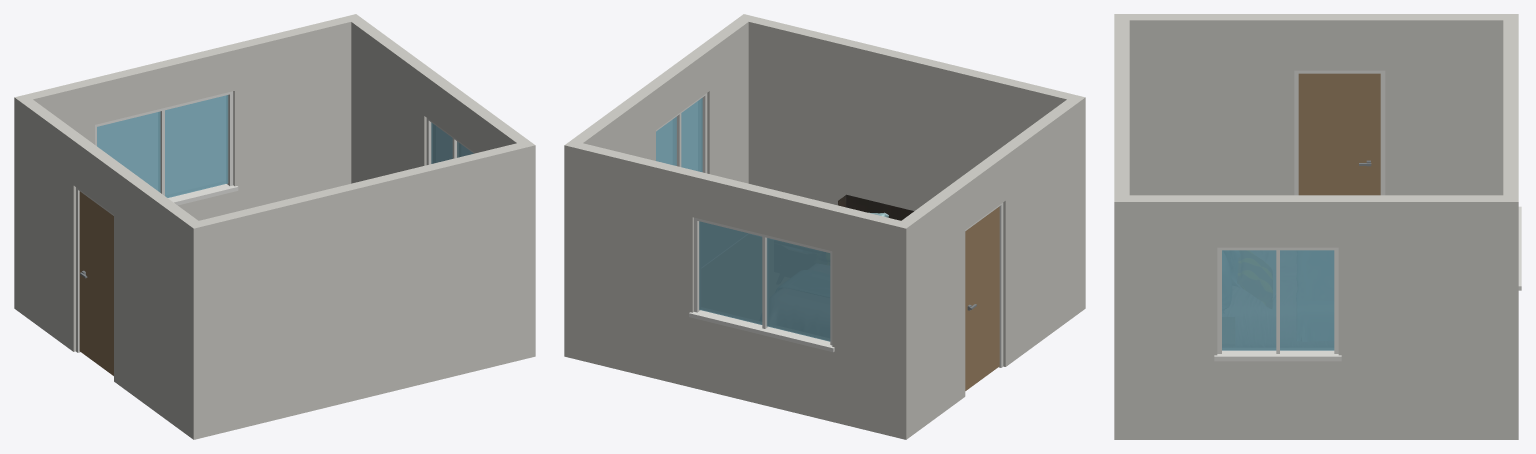
Rendered from instructscene.glb.
3 views of the same model, side by side, from view 1: azimuth 30°, elevation 25°; view 2: azimuth 150°, elevation 25°; view 3: azimuth 270°, elevation 25° (orthographic). The views are drawn at different scales.
Parts seen in each view (by area): view 1: wall|scenesmith_024__R00|0, wall|scenesmith_024__R00|2, wall|scenesmith_024__R00|1, wall|scenesmith_024__R00|3, wall|scenesmith_024__R00|1 Window 0 | glazing, wall|scenesmith_024__R00|2 Door 0 | wood leaf, wall|scenesmith_024__R00|1 Window 0 | jamb, wall|scenesmith_024__R00|3 Window 0 | glazing, wall|scenesmith_024__R00|2 Door 0 | jamb; view 2: wall|scenesmith_024__R00|1, wall|scenesmith_024__R00|0, wall|scenesmith_024__R00|2, wall|scenesmith_024__R00|3, wall|scenesmith_024__R00|1 Window 0 | glazing, wall|scenesmith_024__R00|2 Door 0 | wood leaf, wall|scenesmith_024__R00|1 Window 0 | jamb, wall|scenesmith_024__R00|3 Window 0 | glazing, raw_model.001, wall|scenesmith_024__R00|2 Door 0 | jamb, wall|scenesmith_024__R00|3 Window 0 | jamb; view 3: wall|scenesmith_024__R00|3, wall|scenesmith_024__R00|2, wall|scenesmith_024__R00|3 Window 0 | glazing, wall|scenesmith_024__R00|2 Door 0 | wood leaf, wall|scenesmith_024__R00|3 Window 0 | jamb, wall|scenesmith_024__R00|0, wall|scenesmith_024__R00|1, wall|scenesmith_024__R00|2 Door 0 | jamb.
Boxes of the visible parts, <box> form: wall|scenesmith_024__R00|0: <box>187,140,535,439</box>; wall|scenesmith_024__R00|2: <box>15,94,205,438</box>; wall|scenesmith_024__R00|1: <box>14,14,362,313</box>; wall|scenesmith_024__R00|3: <box>351,19,532,219</box>; wall|scenesmith_024__R00|1 Window 0 | glazing: <box>97,95,228,197</box>; wall|scenesmith_024__R00|2 Door 0 | wood leaf: <box>79,191,113,375</box>; wall|scenesmith_024__R00|1 Window 0 | jamb: <box>95,91,238,205</box>; wall|scenesmith_024__R00|3 Window 0 | glazing: <box>431,122,473,163</box>; wall|scenesmith_024__R00|2 Door 0 | jamb: <box>76,187,113,352</box>; wall|scenesmith_024__R00|1: <box>564,140,912,439</box>; wall|scenesmith_024__R00|0: <box>737,14,1085,313</box>; wall|scenesmith_024__R00|2: <box>895,94,1084,434</box>; wall|scenesmith_024__R00|3: <box>571,19,748,183</box>; wall|scenesmith_024__R00|1 Window 0 | glazing: <box>699,221,830,341</box>; wall|scenesmith_024__R00|2 Door 0 | wood leaf: <box>965,206,999,390</box>; wall|scenesmith_024__R00|1 Window 0 | jamb: <box>689,217,834,352</box>; wall|scenesmith_024__R00|3 Window 0 | glazing: <box>656,98,702,172</box>; raw_model.001: <box>838,194,913,220</box>; wall|scenesmith_024__R00|2 Door 0 | jamb: <box>965,202,1003,367</box>; wall|scenesmith_024__R00|3 Window 0 | jamb: <box>656,93,707,173</box>; wall|scenesmith_024__R00|3: <box>1114,195,1518,439</box>; wall|scenesmith_024__R00|2: <box>1114,14,1518,195</box>; wall|scenesmith_024__R00|3 Window 0 | glazing: <box>1222,250,1334,350</box>; wall|scenesmith_024__R00|2 Door 0 | wood leaf: <box>1298,73,1380,195</box>; wall|scenesmith_024__R00|3 Window 0 | jamb: <box>1214,247,1341,361</box>; wall|scenesmith_024__R00|0: <box>1114,20,1129,201</box>; wall|scenesmith_024__R00|1: <box>1503,20,1518,201</box>; wall|scenesmith_024__R00|2 Door 0 | jamb: <box>1294,70,1385,195</box>.
Size of the model in its own units: 4.43 by 2.61 by 4.03.
8 materials, 2 textured.
